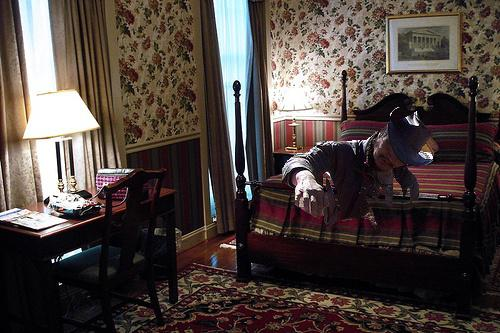tampered: (283, 108, 433, 231)
